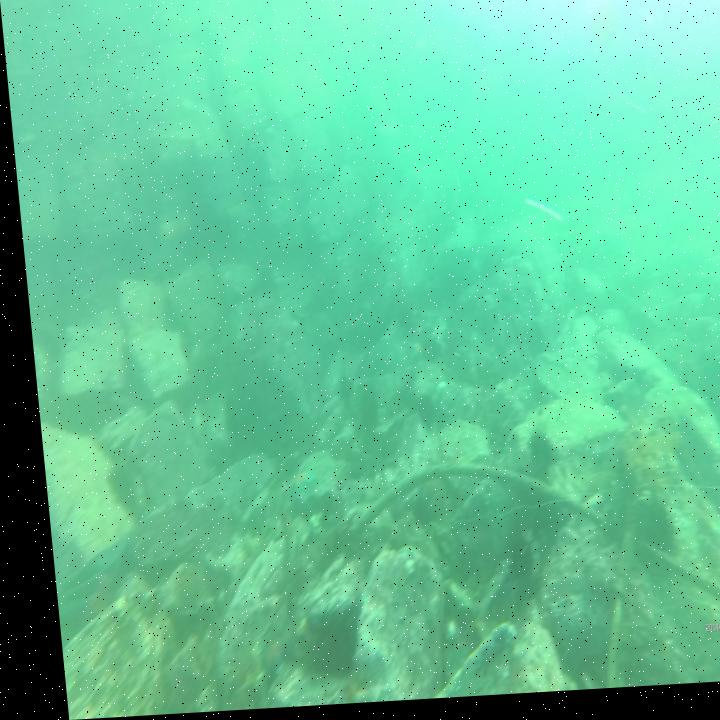echinus: (625, 501, 666, 563), (515, 432, 552, 482), (328, 376, 343, 399)
starfish: (276, 465, 310, 503), (247, 635, 276, 677)
